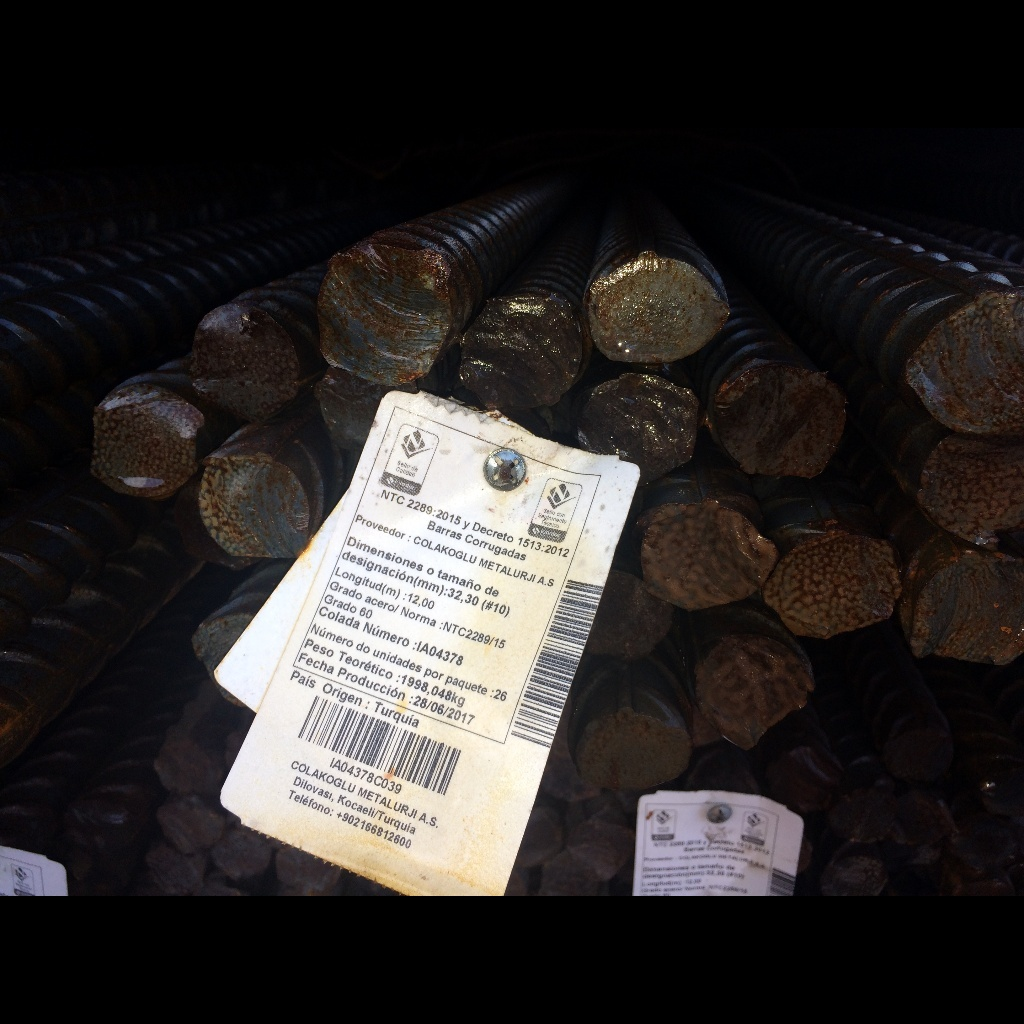dipstick: (323, 252, 448, 388), (708, 370, 849, 476), (914, 295, 1024, 429), (637, 505, 776, 609), (585, 262, 722, 363), (764, 537, 889, 643), (196, 450, 314, 558), (582, 378, 703, 483), (192, 311, 310, 418), (909, 551, 1024, 660), (462, 300, 574, 410), (696, 649, 814, 751), (915, 438, 1024, 537), (97, 401, 200, 504), (585, 714, 688, 792), (578, 575, 672, 660), (196, 611, 267, 689), (876, 717, 957, 785), (772, 743, 840, 811), (271, 837, 343, 896), (831, 781, 891, 850), (151, 798, 228, 849), (954, 816, 1013, 874), (575, 812, 638, 864), (894, 790, 954, 844), (891, 847, 954, 896), (824, 849, 888, 896), (151, 745, 221, 787), (544, 738, 591, 797), (210, 834, 271, 877), (544, 855, 605, 896), (975, 764, 1024, 814), (520, 809, 560, 861)
